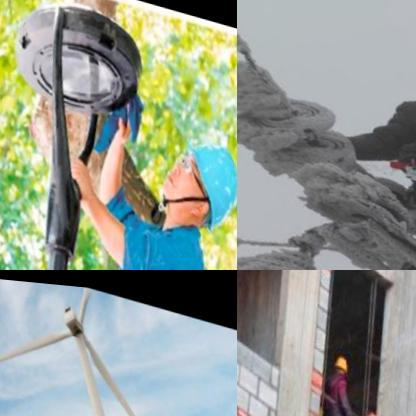helmet: (144, 111, 237, 240), (322, 344, 352, 386)
